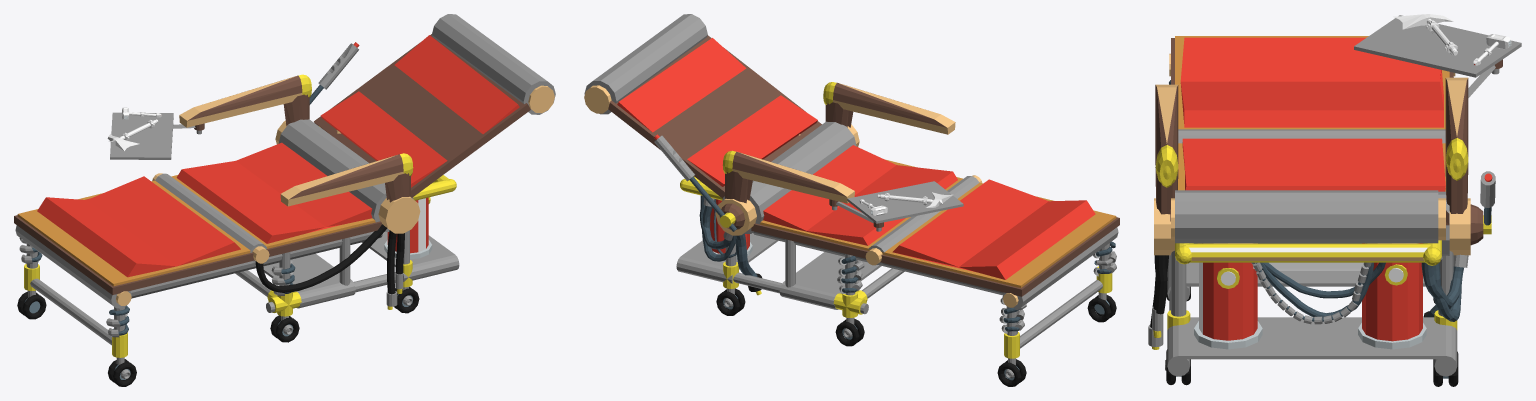
The model's file is victorian-age-dentist-chair-by-li-chang-83KoxfvZ1pO.glb.
3 renders of one model, left to right at view 1: azimuth 30°, elevation 25°; view 2: azimuth 150°, elevation 25°; view 3: azimuth 270°, elevation 25°, orthographic. The views are drawn at different scales.
Visible parts, largest first — view 1: group404663337, group1704689227, group1954440444, group1324181841, group1547835463, group823724505, group1685755865, group1804548570, group1863711708, group731876622, group1776919811, group963774530 (+17 smaller); view 2: group404663337, group1704689227, group1954440444, group1324181841, group823724505, group1547835463, group1685755865, group1804548570, group1863711708, group731876622, group1776919811, group1494896452 (+18 smaller); view 3: group404663337, group823724505, group1954440444, group1404207920, group1776919811, group298892421, group818201591, group1869148171, group1728536375, group1547835463, group1418563078, group1863711708 (+24 smaller).
Part boxes in pixels (bbox=[...]): group404663337: bbox=[37, 176, 240, 277]; group1704689227: bbox=[320, 35, 519, 187]; group1954440444: bbox=[176, 142, 372, 243]; group1324181841: bbox=[314, 34, 530, 197]; group1547835463: bbox=[17, 175, 375, 286]; group823724505: bbox=[432, 14, 555, 114]; group1685755865: bbox=[14, 215, 381, 294]; group1804548570: bbox=[278, 119, 413, 231]; group1863711708: bbox=[280, 154, 403, 206]; group731876622: bbox=[179, 75, 302, 127]; group1776919811: bbox=[110, 112, 173, 159]; group963774530: bbox=[131, 231, 382, 298]; group404663337: bbox=[892, 179, 1095, 279]; group1704689227: bbox=[617, 38, 817, 186]; group1954440444: bbox=[763, 145, 957, 245]; group1324181841: bbox=[608, 35, 821, 198]; group823724505: bbox=[584, 14, 707, 114]; group1547835463: bbox=[760, 159, 1116, 287]; group1685755865: bbox=[751, 217, 1119, 296]; group1804548570: bbox=[722, 121, 856, 233]; group1863711708: bbox=[833, 82, 955, 134]; group731876622: bbox=[732, 151, 854, 203]; group1776919811: bbox=[847, 181, 963, 223]; group1494896452: bbox=[784, 252, 881, 294]; group404663337: bbox=[1180, 37, 1443, 127]; group823724505: bbox=[1175, 190, 1438, 243]; group1954440444: bbox=[1182, 138, 1445, 191]; group1404207920: bbox=[1178, 317, 1445, 359]; group1776919811: bbox=[1354, 15, 1521, 77]; group298892421: bbox=[1182, 243, 1430, 262]; group818201591: bbox=[1199, 262, 1257, 340]; group1869148171: bbox=[1362, 243, 1422, 341]; group1728536375: bbox=[1178, 129, 1445, 143]; group1547835463: bbox=[1175, 36, 1449, 191]; group1418563078: bbox=[1154, 198, 1470, 255]; group1863711708: bbox=[1155, 84, 1178, 165].
Bounding box in the file's own units: 1.93 × 0.8478 × 0.9789.
